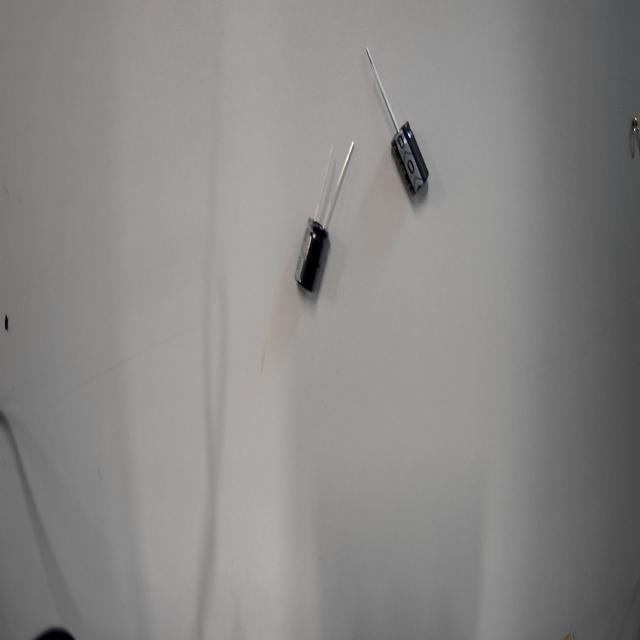capacitor_L: (367, 100, 455, 238), (280, 192, 345, 329)
